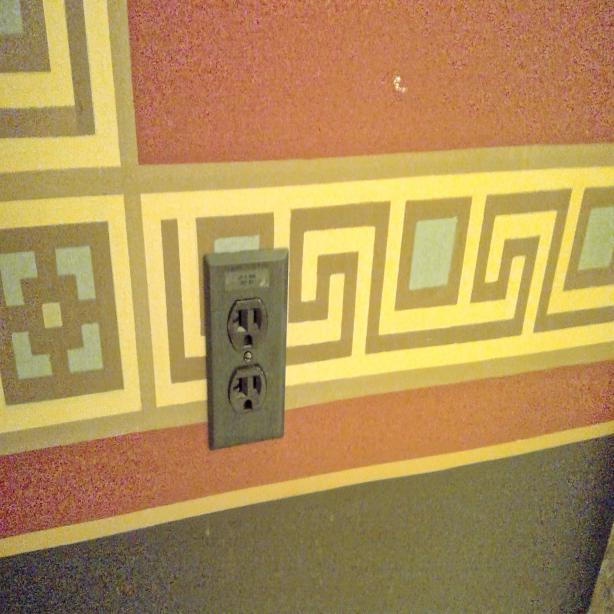typeb: (226, 297, 268, 350), (228, 369, 266, 414)
